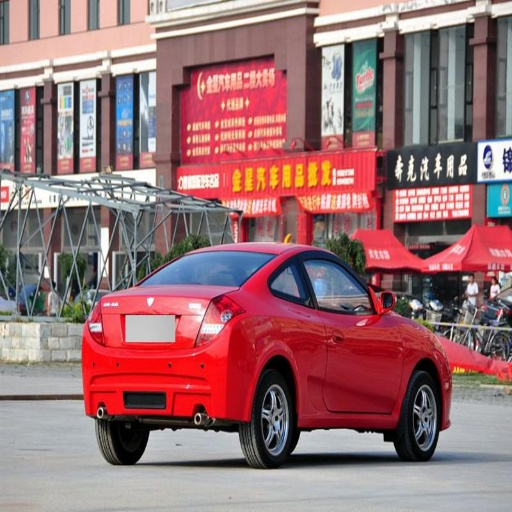back_bumper: (87, 335, 260, 420)
back_right_door: (275, 251, 329, 410)
trunk: (89, 284, 226, 376)
